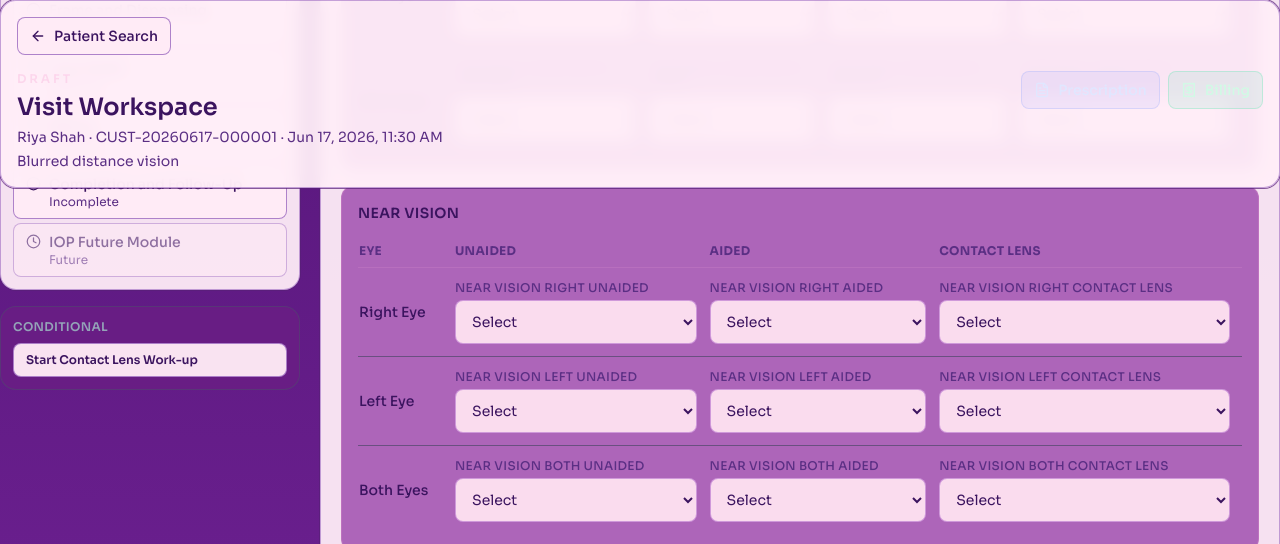
Test: VisitWorkspacePage examination workspace › activates the hidden Contact Lens section explicitly
This screenshot has width=1280, height=544.
(page scrolled)
Click the button "Start Contact Lens Work-up". click: point(150, 360)
box: [13,343,287,377]
(page scrolled)
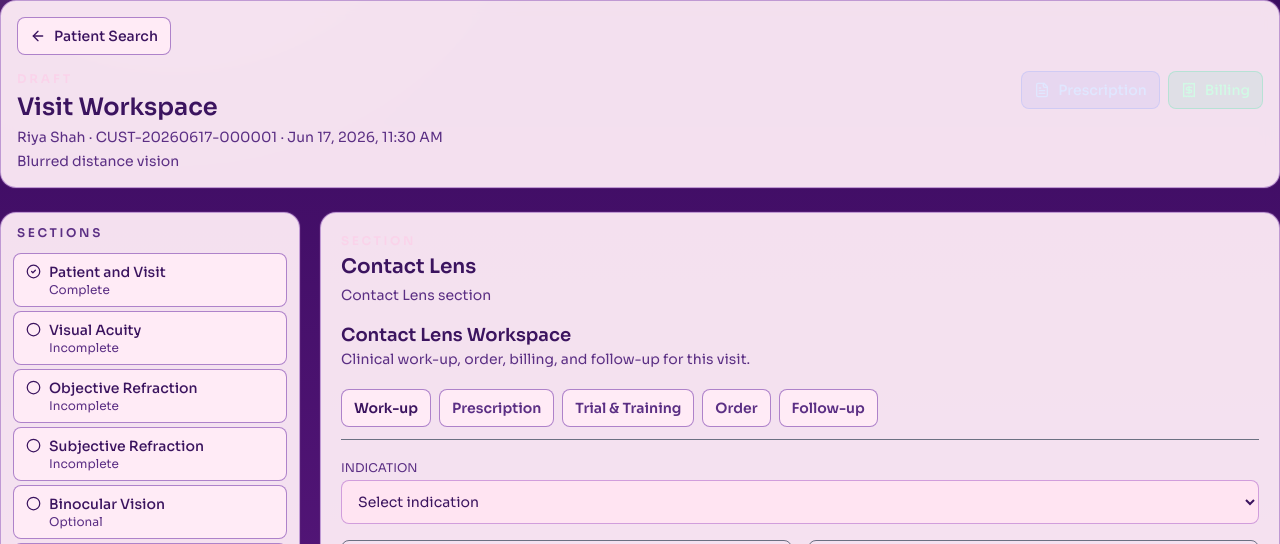
Check: the heading "Contact Lens Workspace" is shown, box [341,324,571,346]
